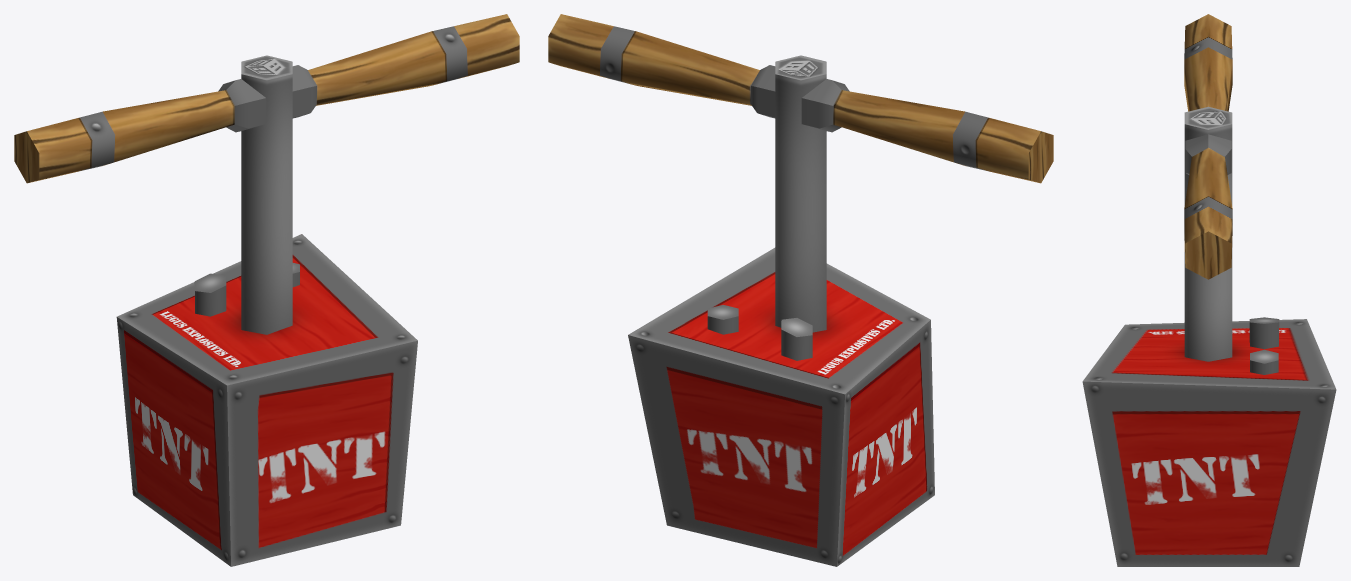
The model's file is Detonator.fbx.
3 views of the same model, side by side, from view 1: azimuth 30°, elevation 25°; view 2: azimuth 150°, elevation 25°; view 3: azimuth 270°, elevation 25° (orthographic). The views are drawn at different scales.
Parts seen in each view (by area): view 1: DetonatorBox, DetonatorPlunger; view 2: DetonatorBox, DetonatorPlunger; view 3: DetonatorBox, DetonatorPlunger.
Boxes of the visible parts, x1=… form: DetonatorBox: x1=116, y1=234, x2=417, y2=566; DetonatorPlunger: x1=14, y1=14, x2=519, y2=334; DetonatorBox: x1=628, y1=247, x2=934, y2=566; DetonatorPlunger: x1=548, y1=14, x2=1053, y2=332; DetonatorBox: x1=1082, y1=317, x2=1336, y2=566; DetonatorPlunger: x1=1184, y1=14, x2=1232, y2=361.
Bounding box in the file's own units: 4.78 × 4.21 × 2.36.
